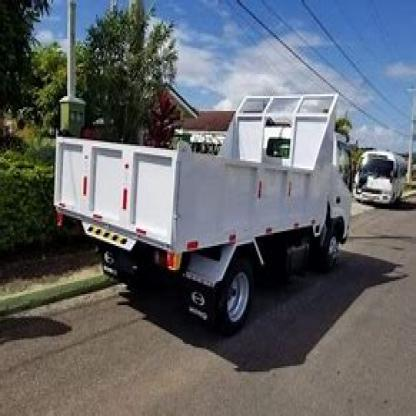dump_truck: (46, 68, 357, 340)
